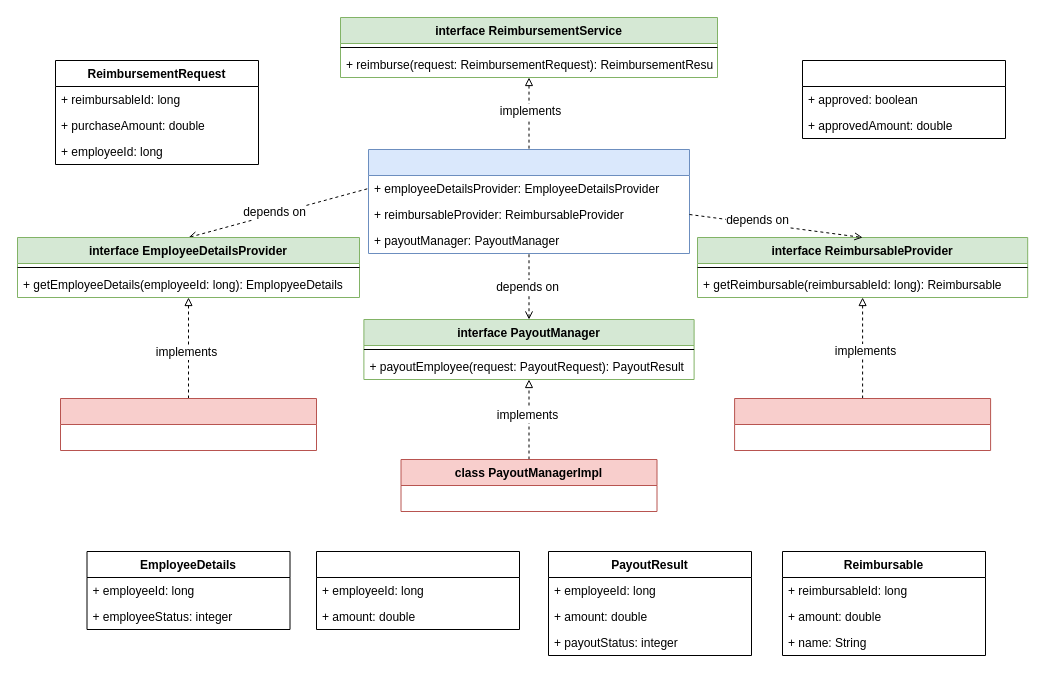
This 1046x676 diagram has some shape labels left out. The box of each missing label's shape, as (x1, y1, x2, y2) in pixels:
class EmployeeDetailsProviderImpl: (60, 398, 316, 450)
class ReimbursableProviderImpl: (734, 398, 991, 450)
class ReimbursementServiceImpl: (368, 148, 690, 254)
PayoutRequest: (316, 550, 520, 630)
ReimbursementResult: (802, 60, 1006, 138)
